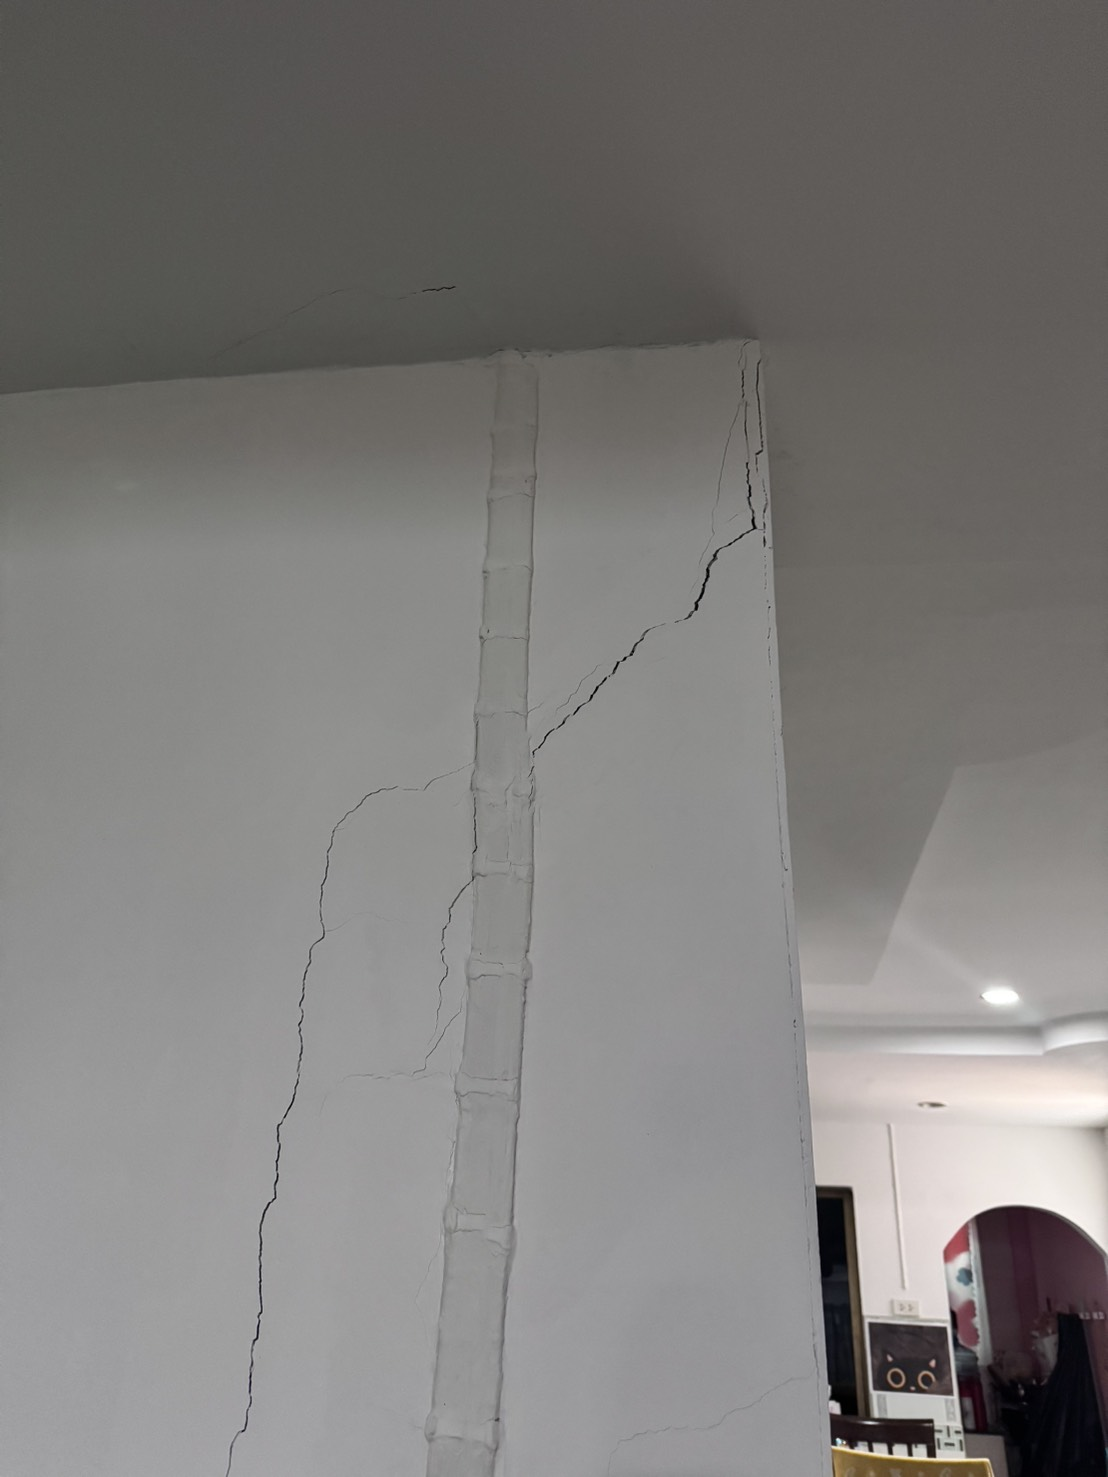Low: (173, 346, 790, 1477)
